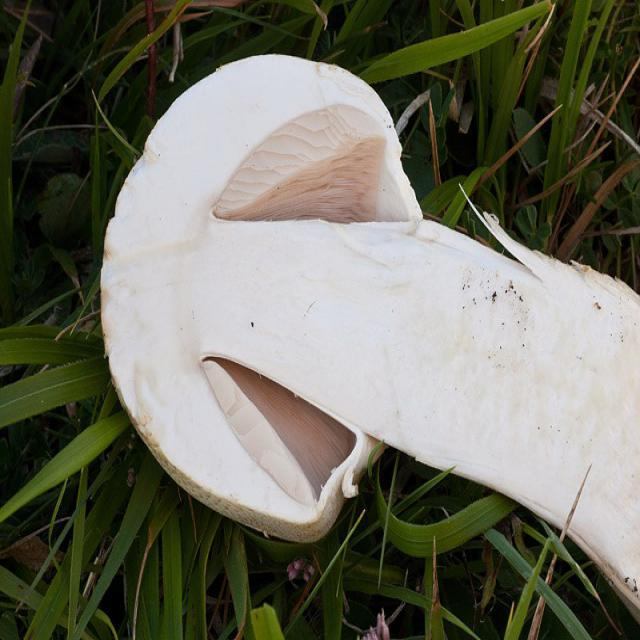Agaricus bisporus: (101, 53, 640, 617)
